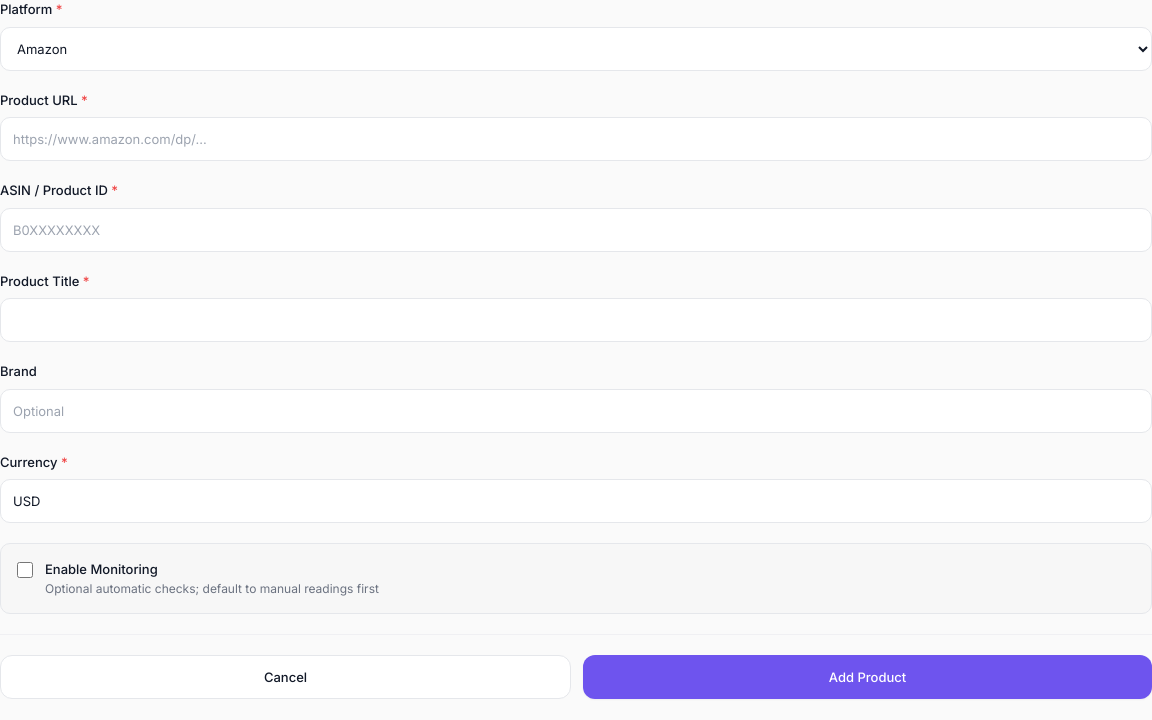
Test: ProductForm › describes monitoring as optional and reveals interval after enabling it
Check: the text "Optional automatic checks; default to manual readings first" is shown, box [45,581,379,596]
Click the checkbox at (25, 570), box [17,562,33,578]
(page scrolled)
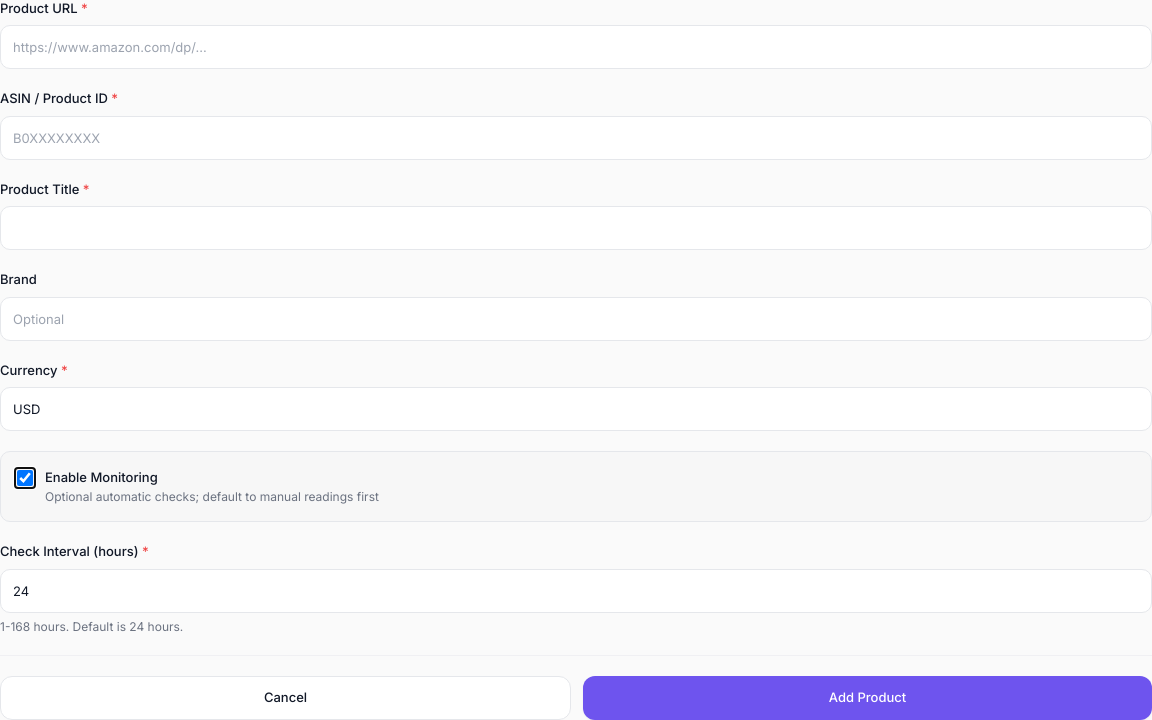
Check: the number field labelled "Check Interval (hours) *" is shown, box [0,568,1151,612]
Check: the text "1-168 hours. Default is 24 hours." is shown, box [0,618,183,634]
